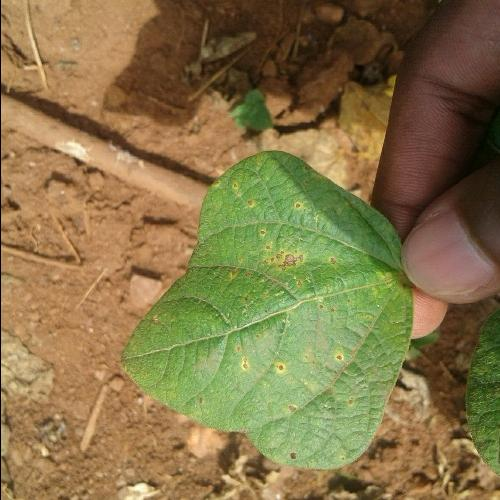hawar: (244, 230, 318, 280)
mozaik: (164, 311, 382, 442)
